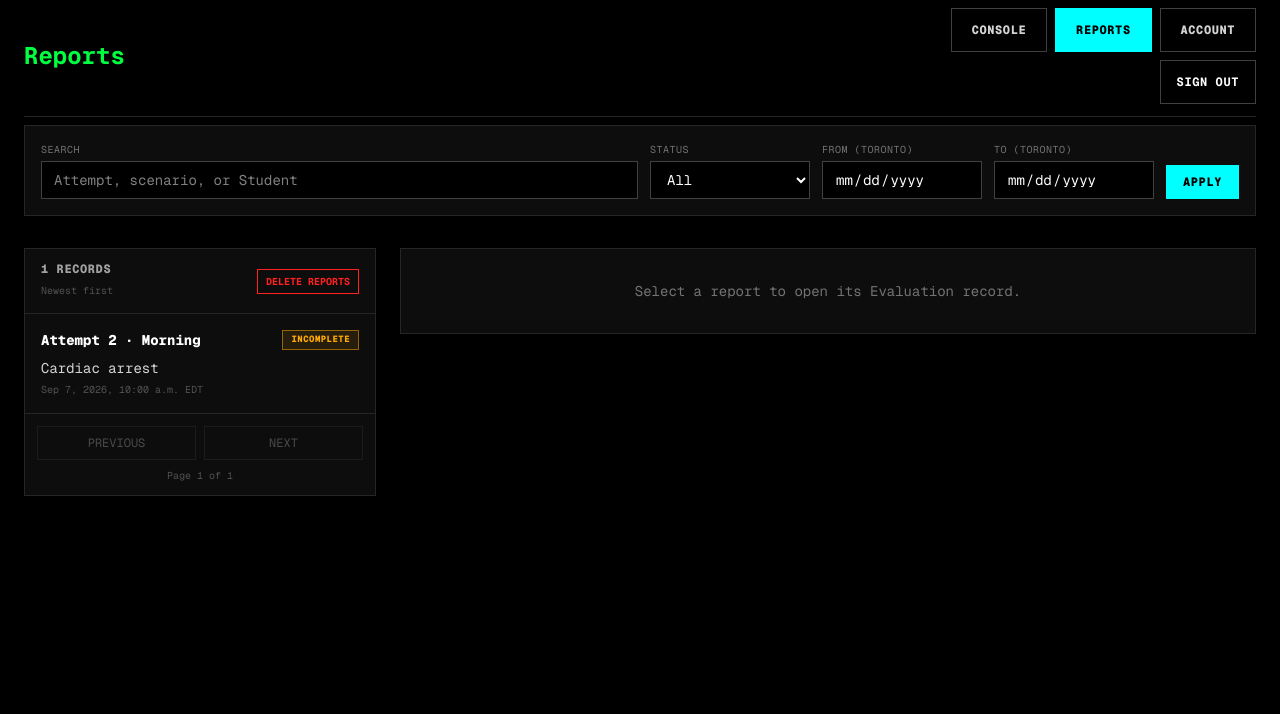
Test case: ReportsPage › labels an A report explicitly when one is present
The image size is (1280, 714).
Click the button "Attempt 2 · Morning": (121, 340) [25,314,375,413]
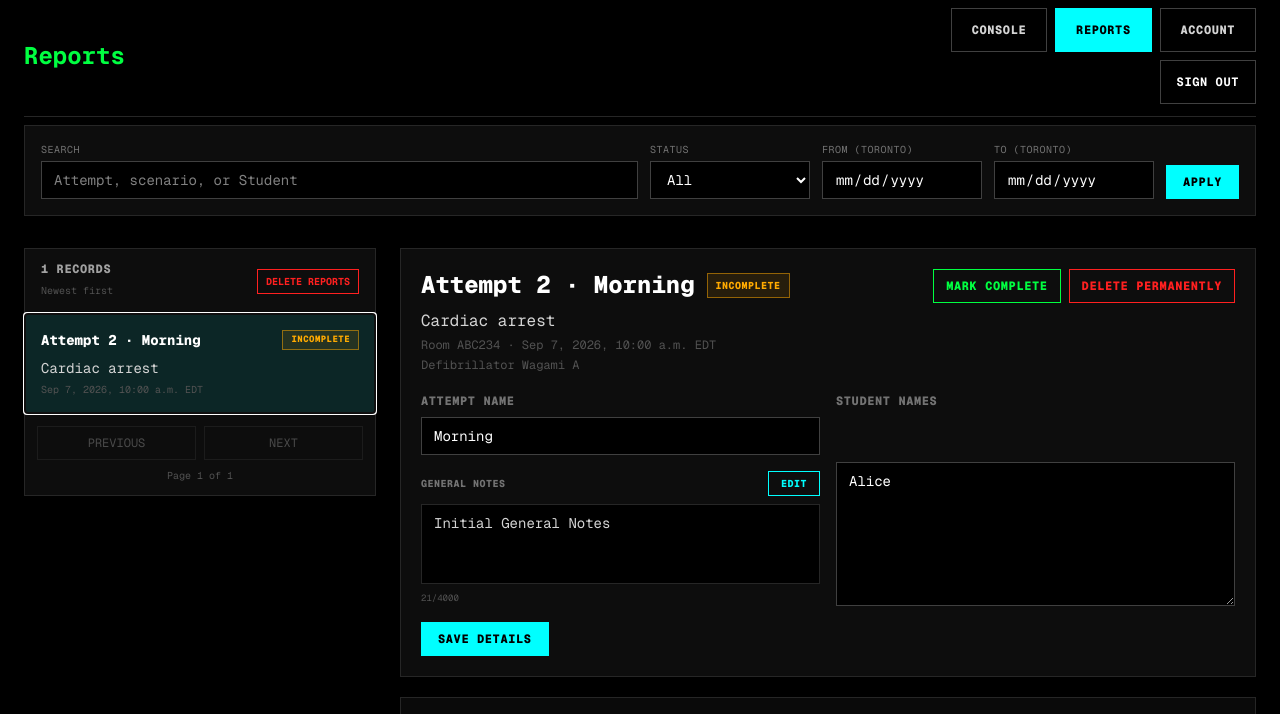
Expected: the text "Wagami A" is shown, [522,357,579,373]
